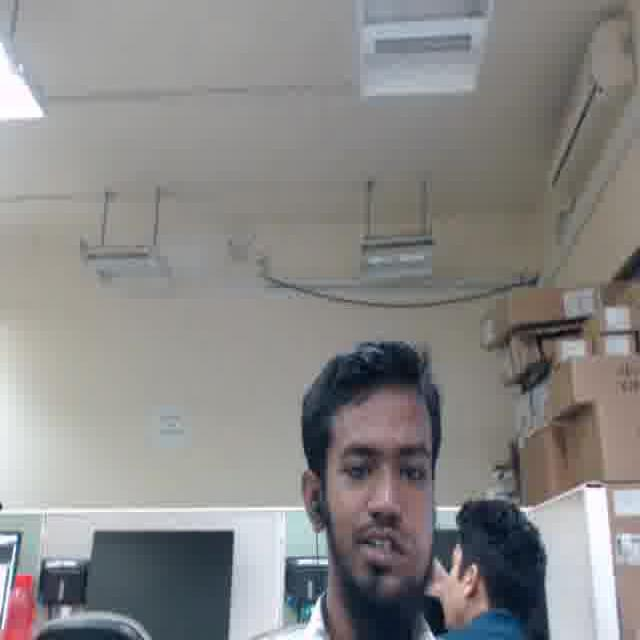Engaged: (323, 397, 438, 596)
